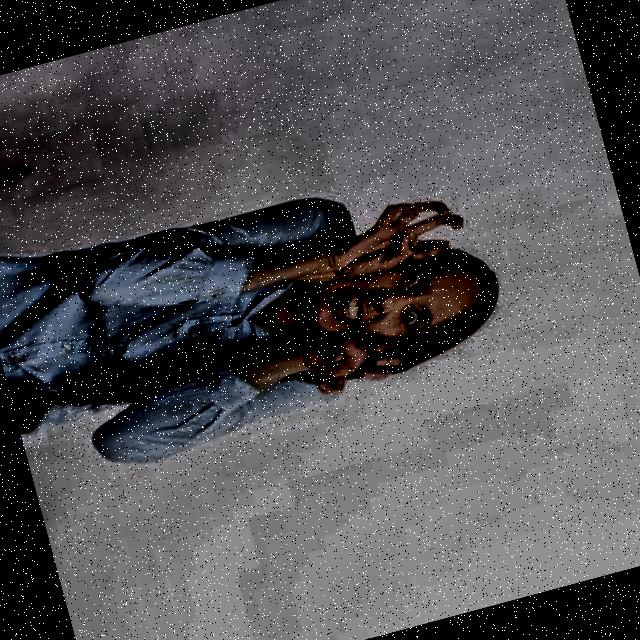angry: (218, 171, 535, 429)
